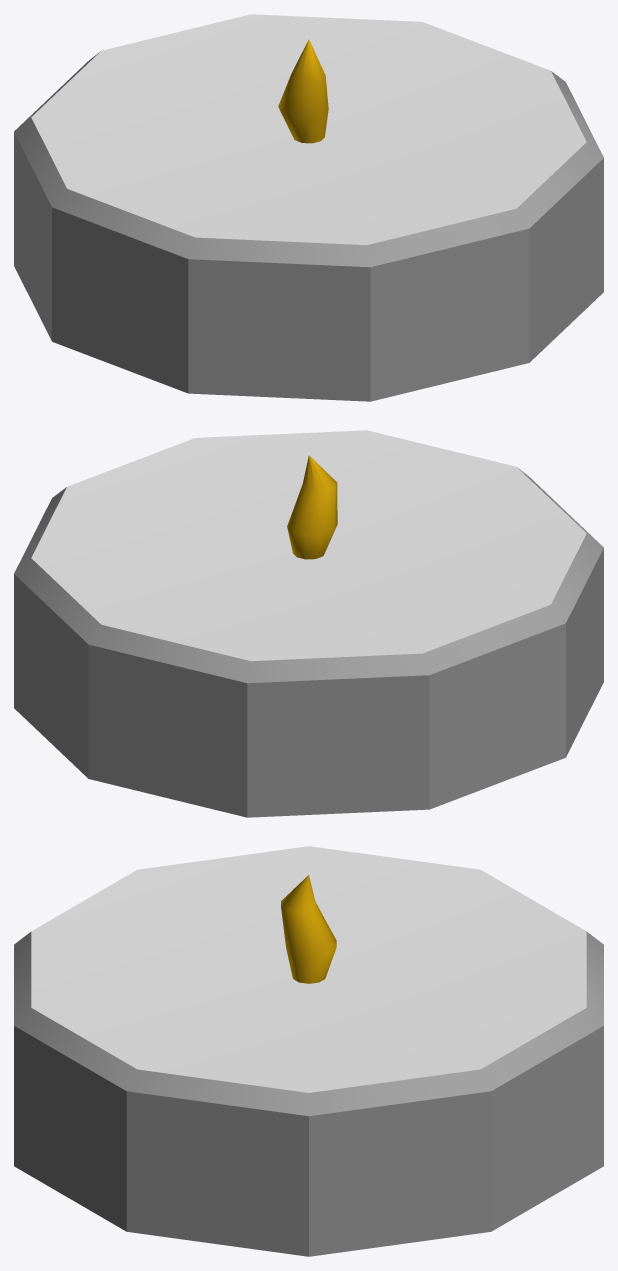
Rendered from candle.fbx.
The picture shows the model from 3 angles, top to bottom: view 1: azimuth 30°, elevation 25°; view 2: azimuth 150°, elevation 25°; view 3: azimuth 270°, elevation 25°; orthographic projection. The views are drawn at different scales.
Parts seen in each view (by area): view 1: pCylinder1, pCone1; view 2: pCylinder1, pCone1; view 3: pCylinder1, pCone1.
Part boxes in pixels (<box>): pCylinder1: <box>14,14,603,401</box>; pCone1: <box>278,39,328,143</box>; pCylinder1: <box>14,430,603,817</box>; pCone1: <box>287,455,337,559</box>; pCylinder1: <box>14,846,603,1256</box>; pCone1: <box>281,875,336,983</box>.
Bounding box in the file's own units: 2 × 0.893 × 1.9.
